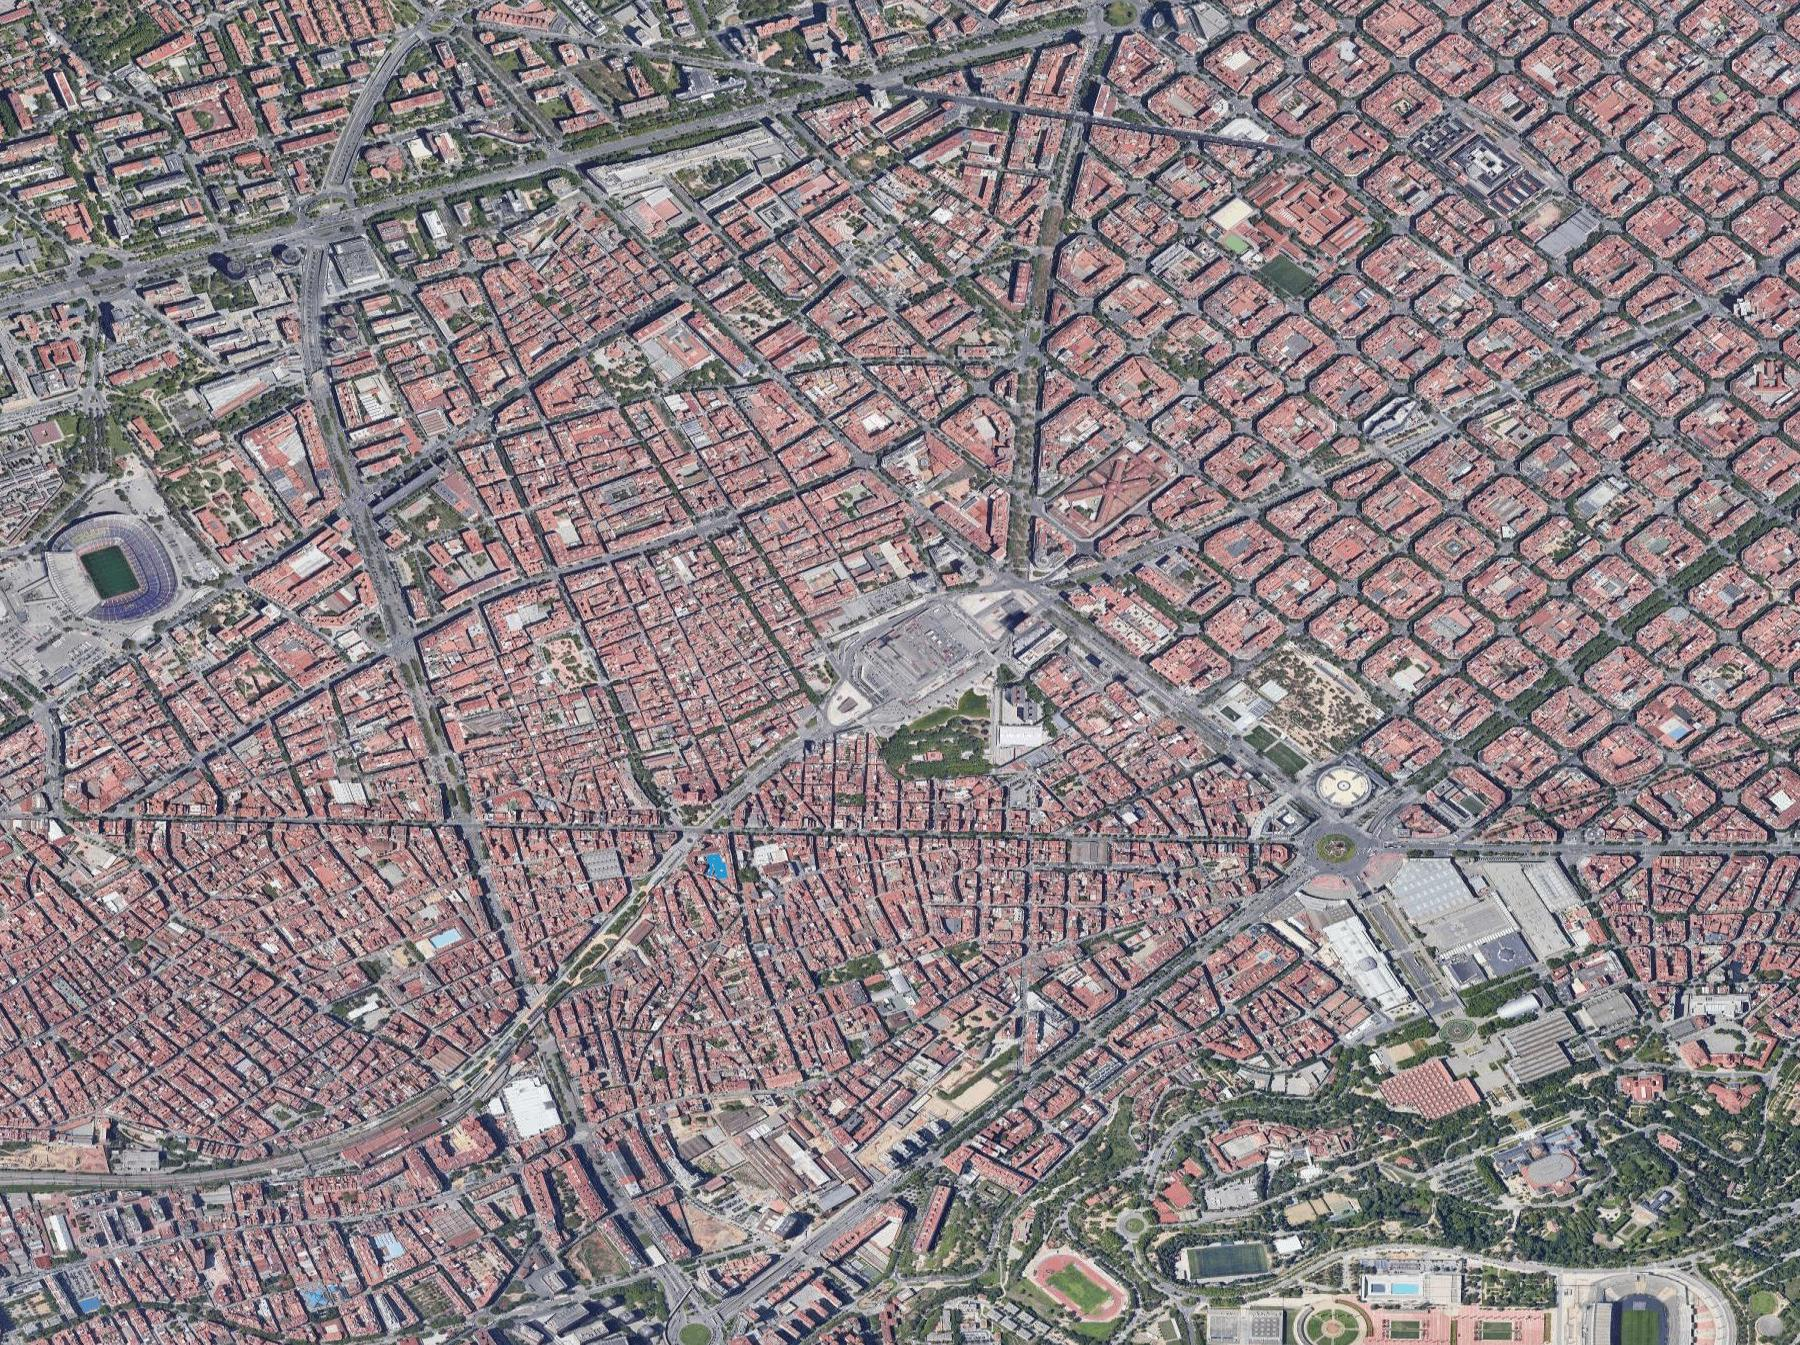train_station: (841, 583, 990, 722)
